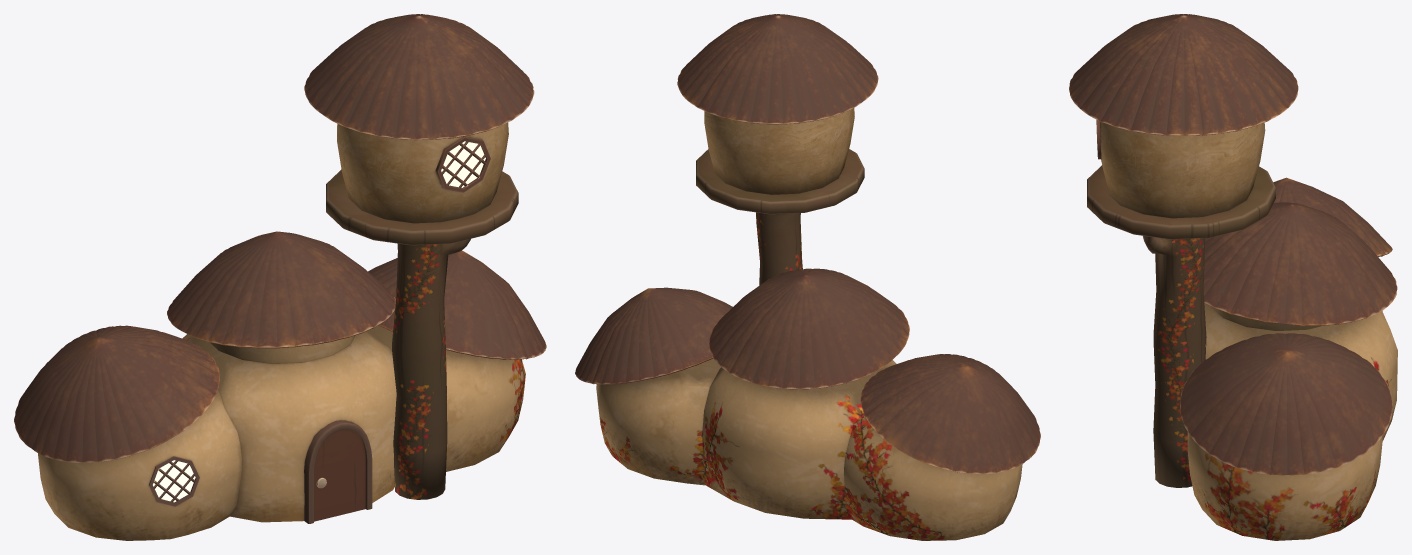
File: BrownHouse.fbx
3 views of the same model, side by side, from view 1: azimuth 30°, elevation 25°; view 2: azimuth 150°, elevation 25°; view 3: azimuth 270°, elevation 25° (orthographic). The views are drawn at different scales.
Parts seen in each view (by area): view 1: RoofLow.007, House, RoofLow.006, Cylinder.008, Cylinder.001, DoorCase, Cylinder.002, Window.005; view 2: RoofLow.007, House, RoofLow.006, Cylinder.001, Cylinder.008; view 3: RoofLow.007, RoofLow.006, House, Cylinder.008, Cylinder.001.
Boxes of the visible parts, x1,y1,x2,y2 form: RoofLow.007: [14, 231, 546, 462]; House: [38, 325, 525, 540]; RoofLow.006: [304, 14, 534, 140]; Cylinder.008: [326, 169, 518, 499]; Cylinder.001: [337, 122, 508, 223]; DoorCase: [304, 420, 372, 523]; Cylinder.002: [435, 137, 490, 192]; Window.005: [149, 456, 199, 506]; RoofLow.007: [575, 268, 1040, 473]; House: [596, 358, 1022, 540]; RoofLow.006: [677, 14, 878, 124]; Cylinder.001: [704, 108, 854, 194]; Cylinder.008: [696, 149, 864, 285]; RoofLow.007: [1180, 177, 1397, 475]; RoofLow.006: [1069, 14, 1298, 135]; House: [1187, 303, 1397, 540]; Cylinder.008: [1087, 165, 1275, 487]; Cylinder.001: [1100, 121, 1265, 218].
Size of the model in its own units: 906 by 819 by 527.
Materials: 8 (8 with a texture image).
